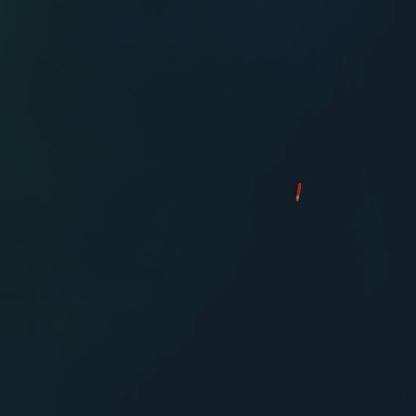ship: (292, 13, 302, 38)
